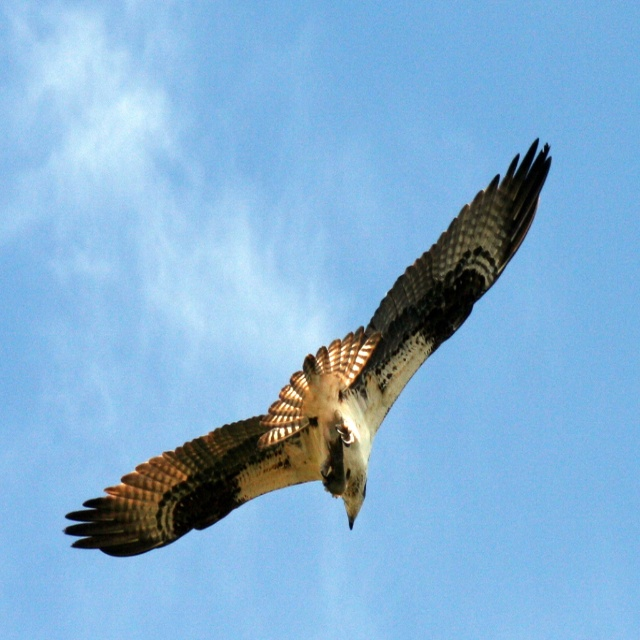Eagle: (60, 134, 554, 563)
